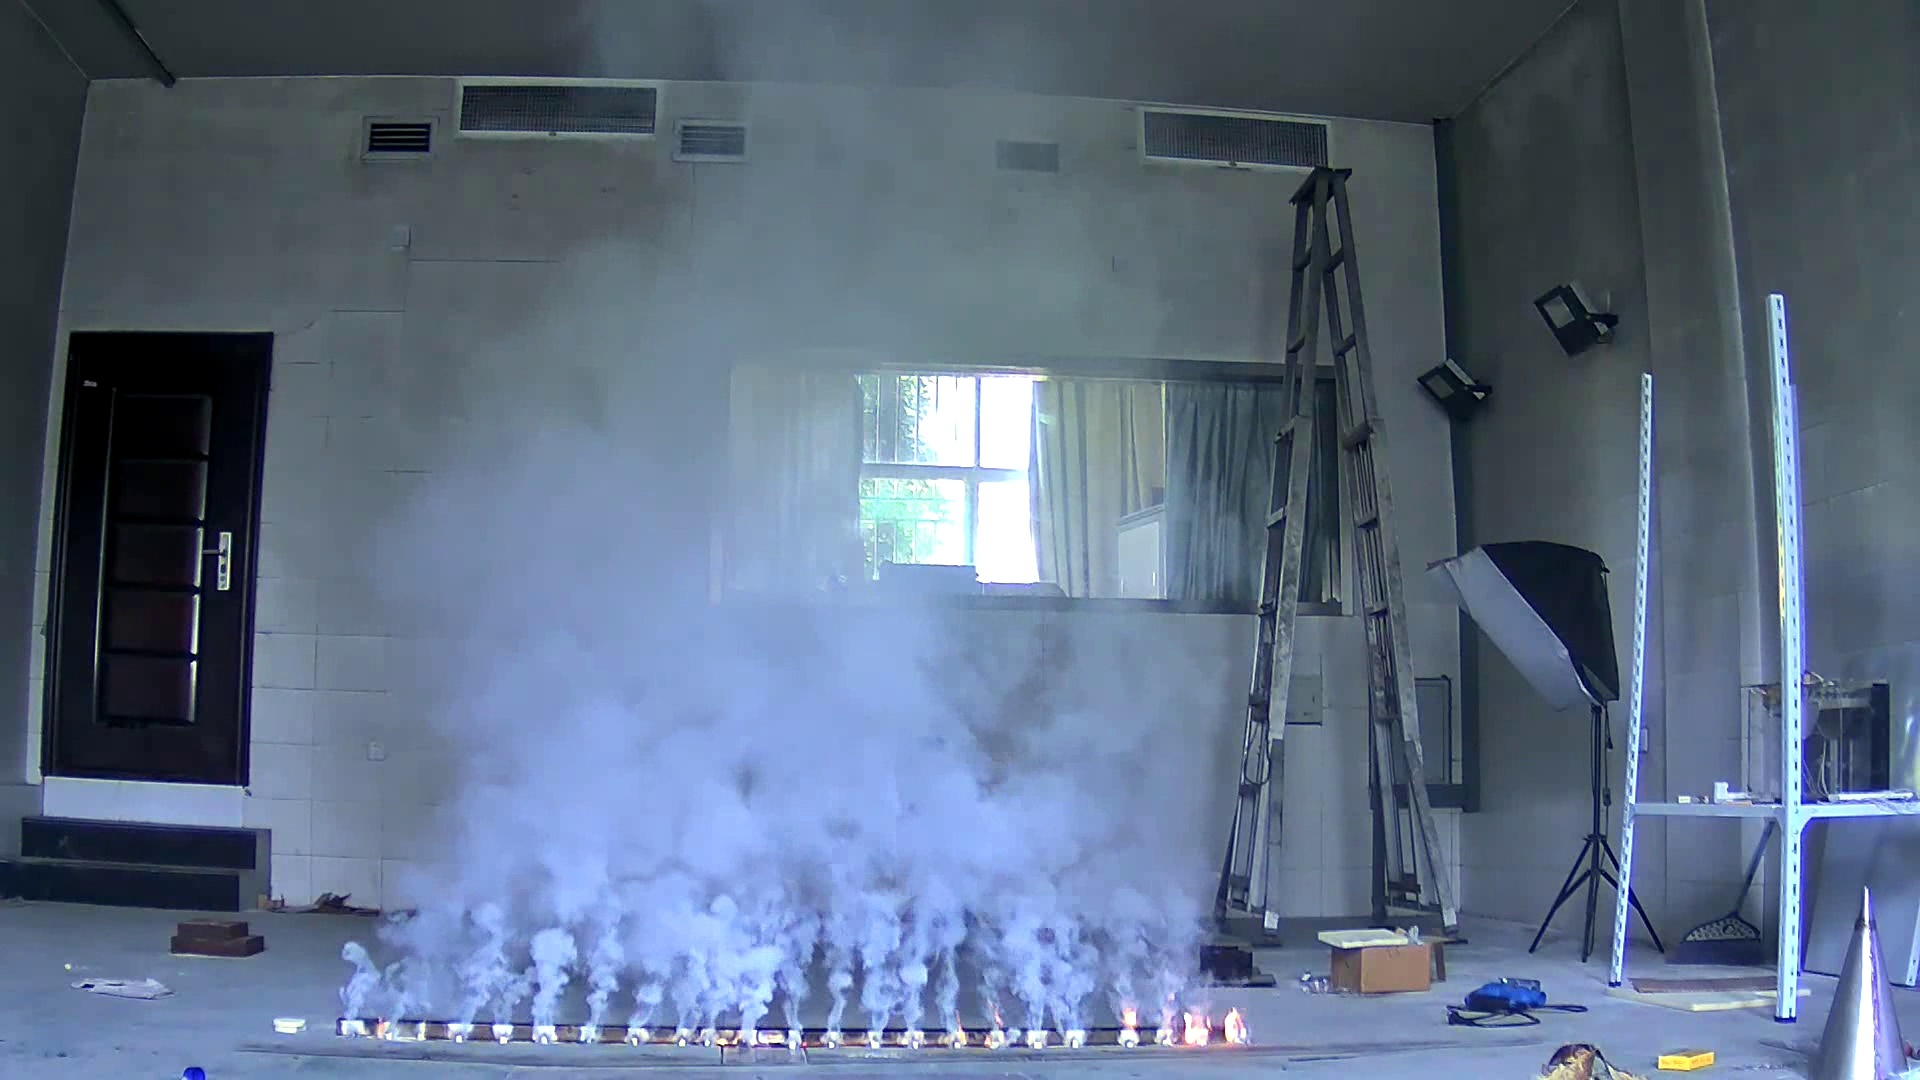smoke: (319, 477, 1211, 1038)
